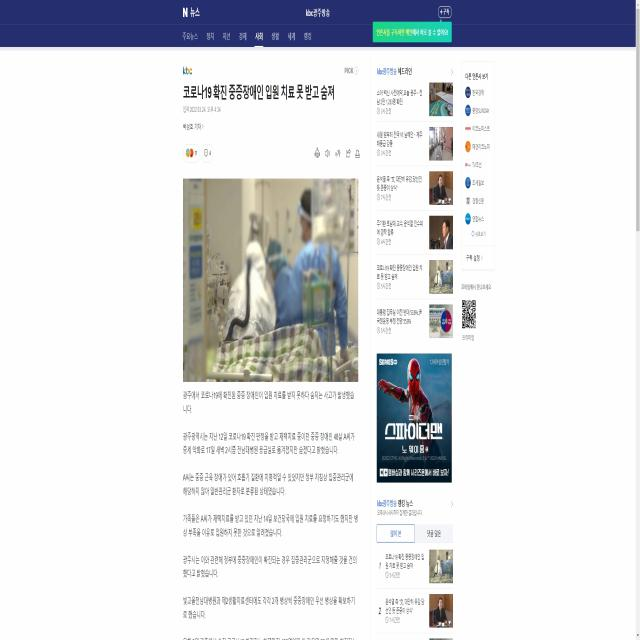side-panel: (458, 56, 496, 367)
tab-bar: (182, 23, 316, 45)
